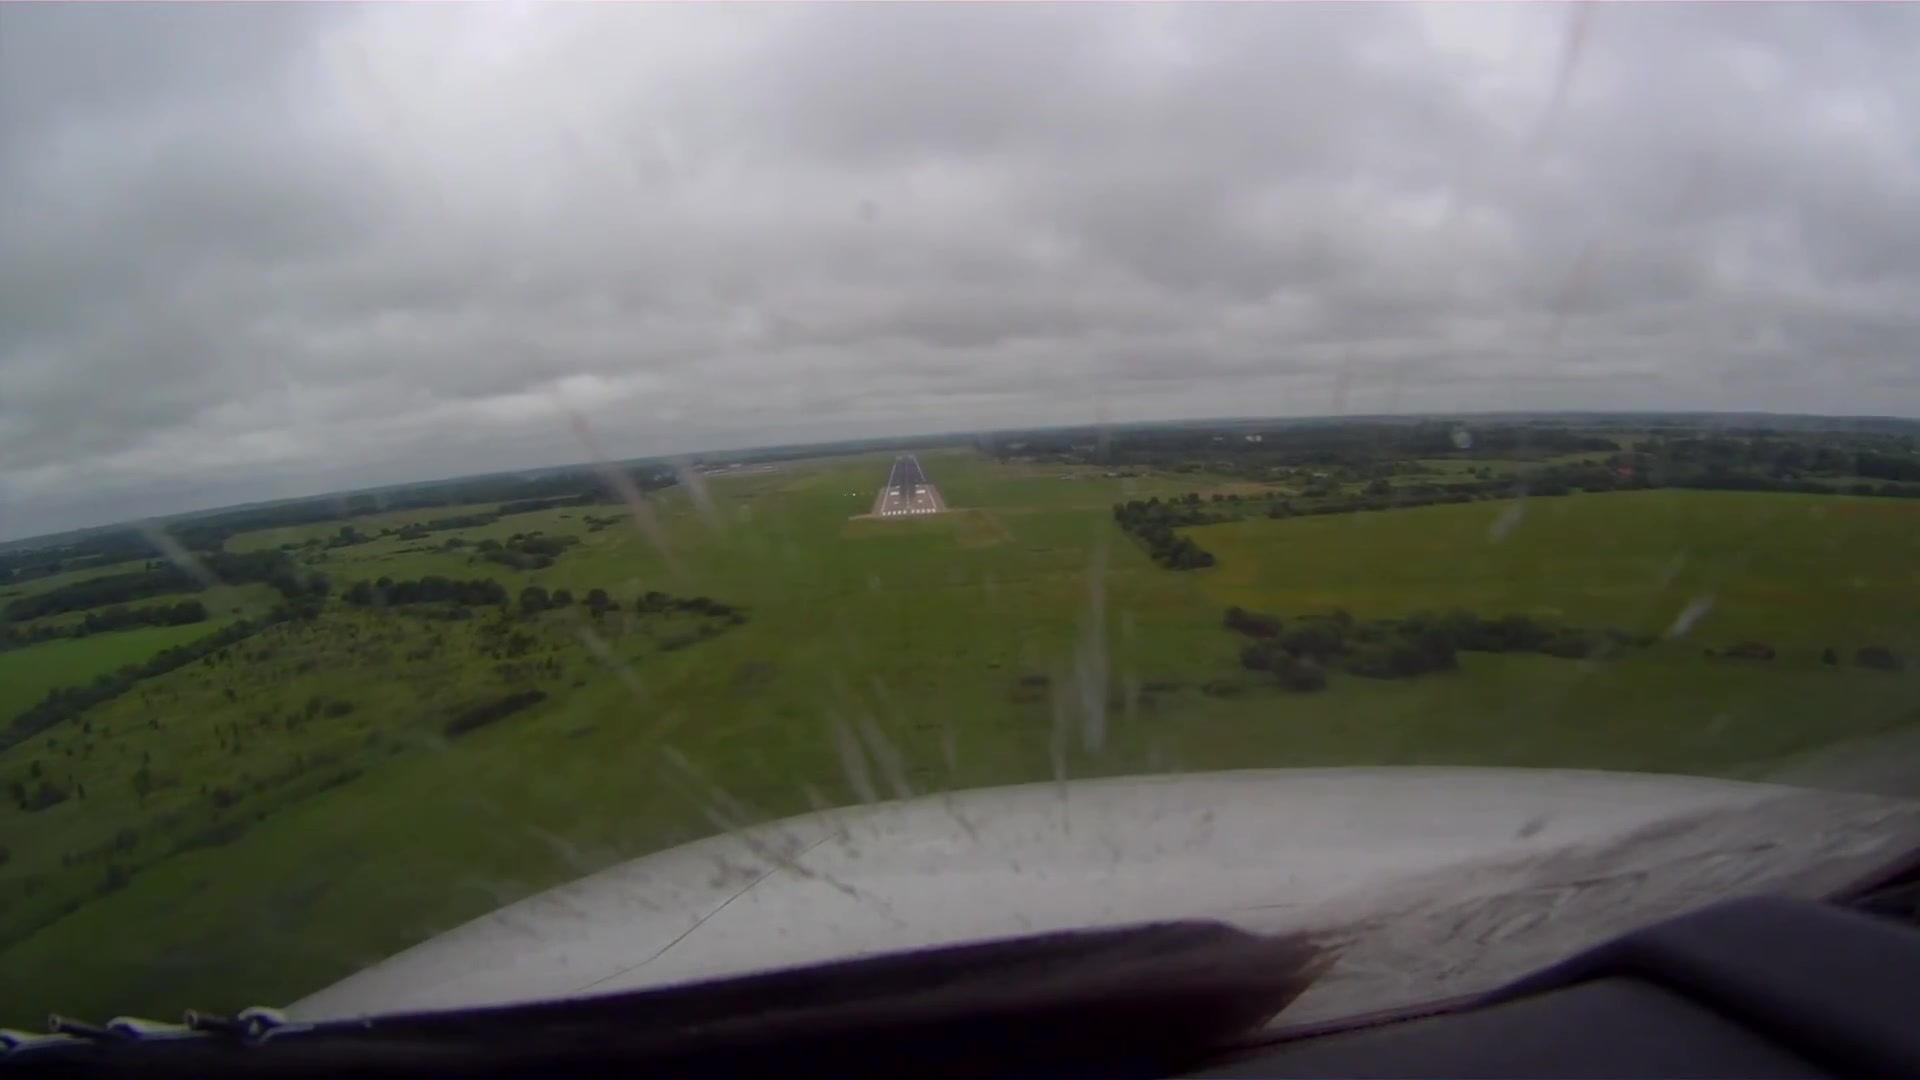entrance: (882, 506, 936, 516)
runway: (880, 454, 938, 520)
